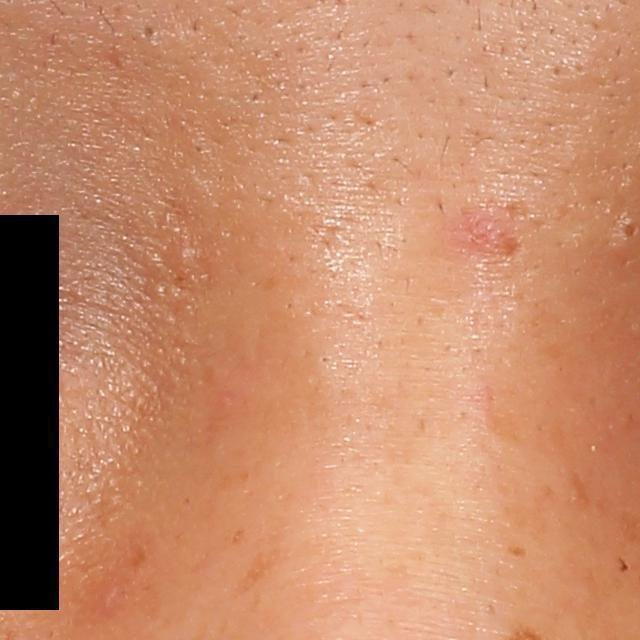comedo: (142, 21, 159, 40)
melasma: (223, 542, 288, 603), (130, 535, 156, 571), (499, 542, 532, 560)
